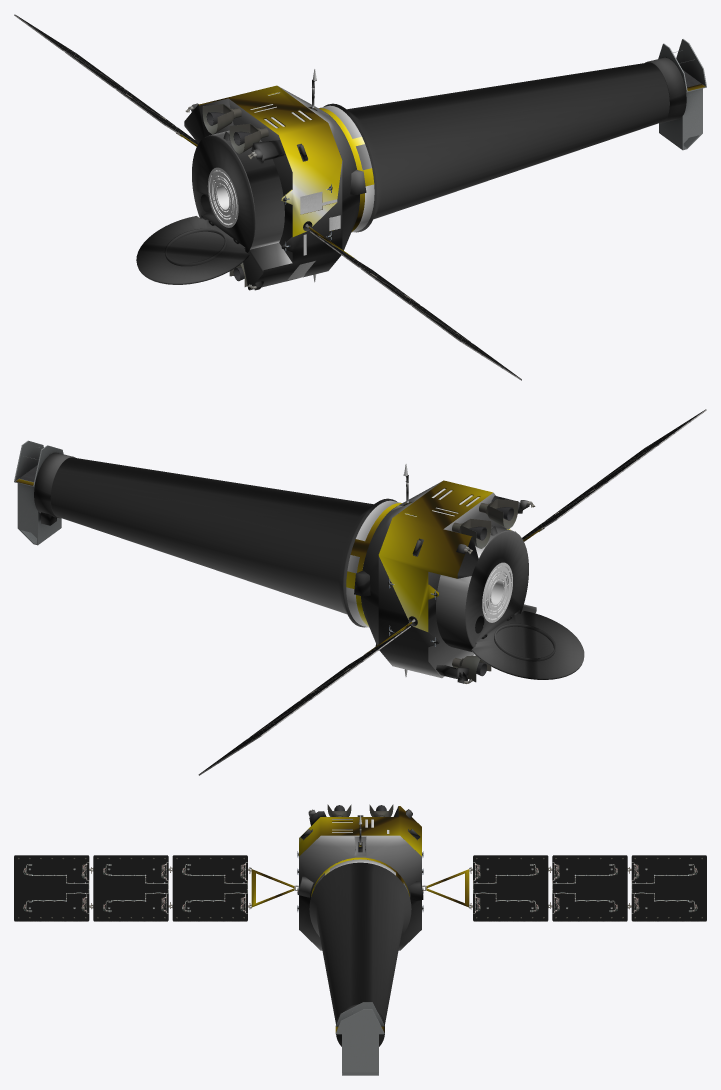
The model's file is Chandra X-ray Observatory.glb.
The picture shows the model from 3 angles, top to bottom: view 1: azimuth 30°, elevation 25°; view 2: azimuth 150°, elevation 25°; view 3: azimuth 270°, elevation 25°; orthographic projection. The views are drawn at different scales.
Visible parts, largest first — view 1: foil_silver, tex_01, foil_gold, AO_HRMA; view 2: foil_silver, foil_gold, tex_01, AO_HRMA; view 3: tex_01, foil_silver, foil_gold.
Part boxes in pixels (bbox=[...]): foil_silver: bbox=[136, 57, 686, 290]; tex_01: bbox=[14, 14, 706, 380]; foil_gold: bbox=[180, 84, 705, 257]; AO_HRMA: bbox=[207, 167, 338, 227]; foil_silver: bbox=[34, 452, 584, 683]; foil_gold: bbox=[16, 479, 540, 652]; tex_01: bbox=[14, 409, 706, 775]; AO_HRMA: bbox=[482, 562, 512, 622]; tex_01: bbox=[14, 804, 706, 1075]; foil_silver: bbox=[297, 806, 423, 1046]; foil_gold: bbox=[251, 806, 469, 1032].
Size of the model in its own units: 13.78 by 5.14 by 19.51.
5 materials, 4 textured.
